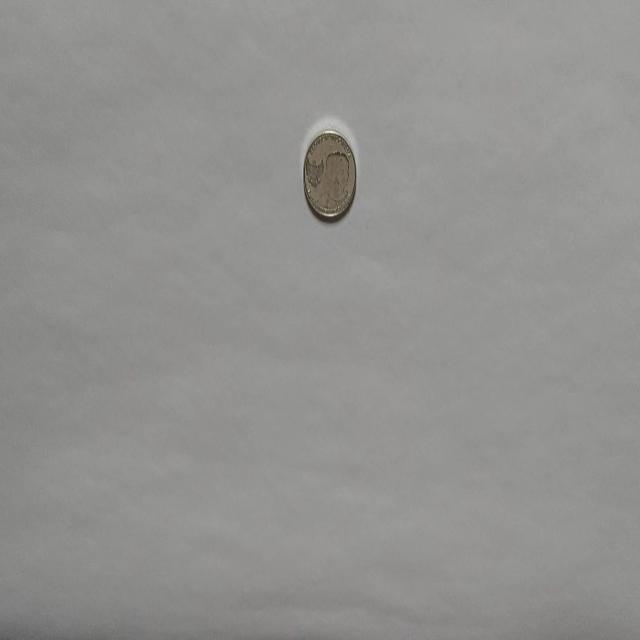seratus rupiah: (302, 127, 356, 221)
